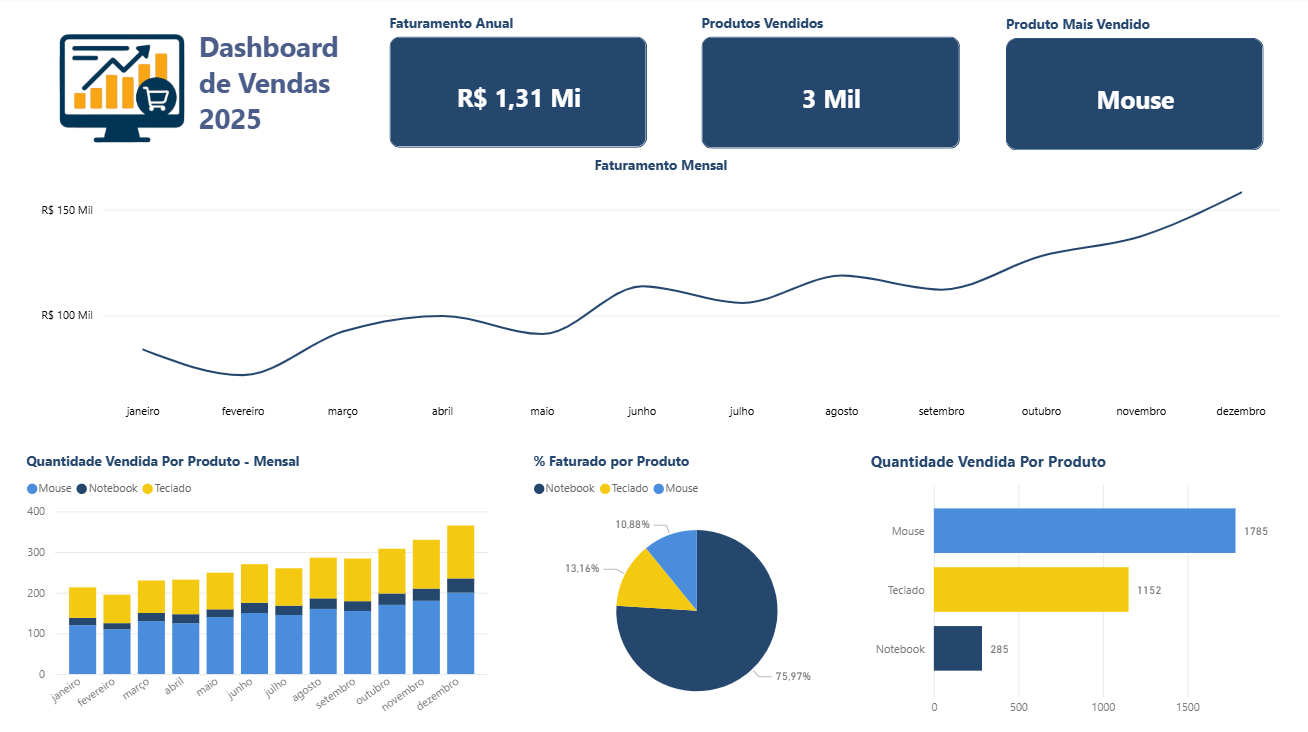

Layout of this report page (visuals, bound fields, positions):
{"tool":"powerbi","page":{"name":"Página 1","canvas":[1280,720],"ordinal":0},"visuals":[{"type":"cardVisual","title":"Faturamento Anual","fields":{"Data":["Sum(Vendas_2025 (2).Faturamento)"]},"box":[378.9,16.2,260.7,136],"z":0},{"type":"cardVisual","title":"Produtos Vendidos","fields":{"Data":["Sum(Vendas_2025 (2).quantidade_vendida)"]},"box":[681,16.1,261.9,137],"z":1000},{"type":"lineChart","title":"Faturamento Mensal","fields":{"Y":["Sum(Vendas_2025 (2).Faturamento)"],"Category":["Vendas_2025 (2).mes.Variation.Hierarquia de datas.Mês"]},"box":[40.5,153.8,1212.8,265.6],"z":2000},{"type":"barChart","title":"Quantidade Vendida Por Produto","fields":{"Y":["Sum(Vendas_2025 (2).quantidade_vendida)"],"Category":["Vendas_2025 (2).nome_produto"]},"box":[845.2,440.4,408,265.6],"z":3000},{"type":"pieChart","title":"% Faturado por Produto","fields":{"Category":["Vendas_2025 (2).nome_produto"],"Y":["Sum(Vendas_2025 (2).Faturamento)"]},"box":[518.2,440.4,327.1,265.6],"z":4000},{"type":"columnChart","title":"Quantidade Vendida Por Produto - Mensal","fields":{"Category":["Vendas_2025 (2).mes.Variation.Hierarquia de datas.Mês"],"Y":["Sum(Vendas_2025 (2).quantidade_vendida)"],"Series":["Vendas_2025 (2).nome_produto"]},"box":[25.9,440.4,458.2,265.6],"z":5000},{"type":"cardVisual","title":"Produto Mais Vendido","fields":{"Data":["Vendas_2025 (2).Produto Mais Vendido"]},"box":[976.4,17.8,260.7,137.6],"z":6000},{"type":"image","box":[25.9,0,195.9,178.1],"z":6001},{"type":"textbox","box":[194.3,24.3,171.6,136],"z":6002}]}

Visuals, with their boxes in screenshot pixels (x1, y1, x2, y2), scaled from the page's 1280x720 canvas onto the 1308x732 screenshot:
"Faturamento Anual" cardVisual: {"x1": 387, "y1": 16, "x2": 654, "y2": 155}
"Produtos Vendidos" cardVisual: {"x1": 696, "y1": 16, "x2": 964, "y2": 156}
"Faturamento Mensal" lineChart: {"x1": 41, "y1": 156, "x2": 1281, "y2": 426}
"Quantidade Vendida Por Produto" barChart: {"x1": 864, "y1": 448, "x2": 1281, "y2": 718}
"% Faturado por Produto" pieChart: {"x1": 530, "y1": 448, "x2": 864, "y2": 718}
"Quantidade Vendida Por Produto - Mensal" columnChart: {"x1": 26, "y1": 448, "x2": 495, "y2": 718}
"Produto Mais Vendido" cardVisual: {"x1": 998, "y1": 18, "x2": 1264, "y2": 158}
image: {"x1": 26, "y1": 0, "x2": 227, "y2": 181}
textbox: {"x1": 199, "y1": 25, "x2": 374, "y2": 163}
